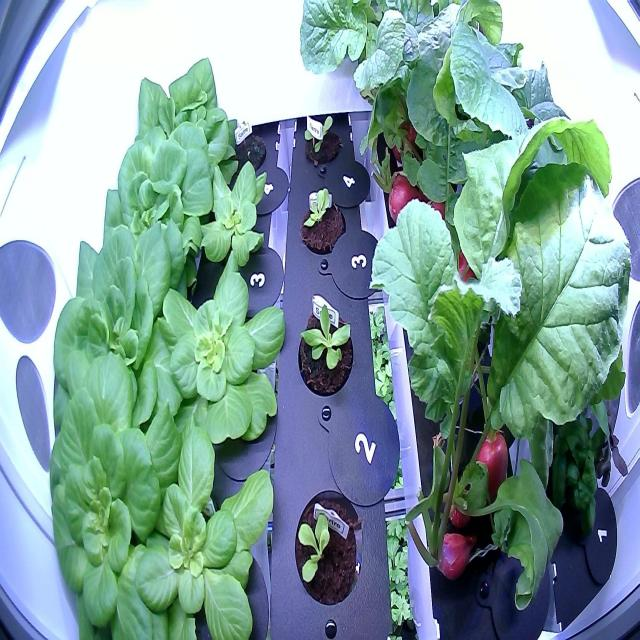pod: (225, 124, 268, 187)
young: (42, 351, 188, 638), (124, 416, 283, 638), (41, 221, 201, 438), (150, 252, 295, 456), (113, 48, 243, 206), (96, 114, 222, 270), (186, 155, 273, 291), (290, 470, 369, 614), (292, 283, 362, 406), (296, 182, 350, 258), (299, 106, 346, 174)
